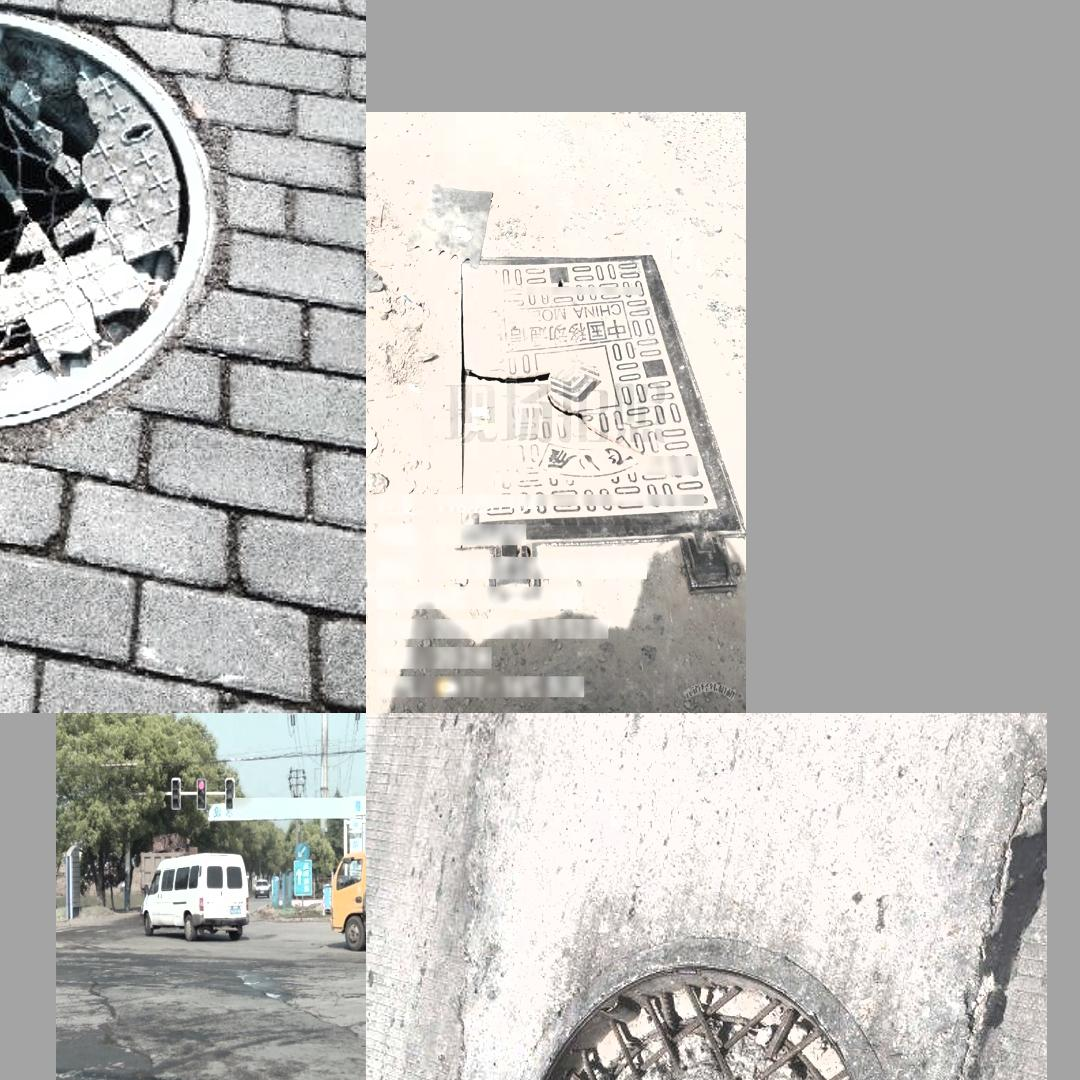broke: (0, 0, 246, 464), (452, 253, 746, 601), (483, 943, 928, 1080)
